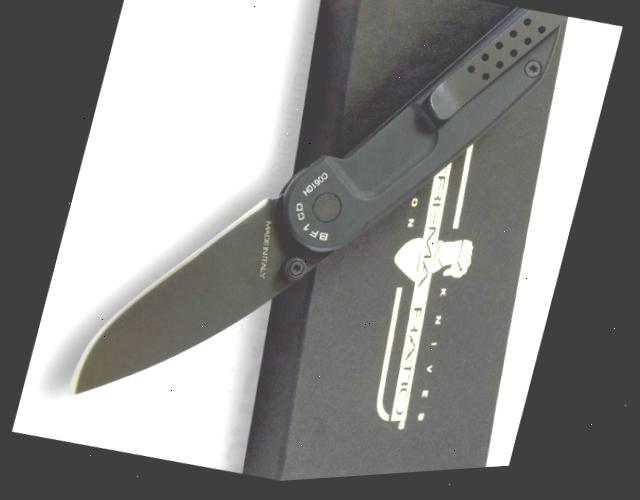pocket-knife: (53, 0, 569, 497)
